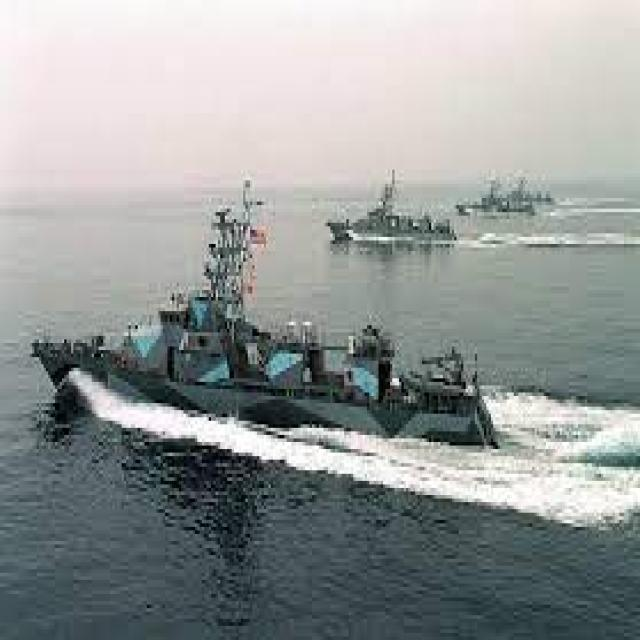navalvessels: (26, 174, 498, 483), (326, 149, 456, 259), (446, 166, 520, 224)
